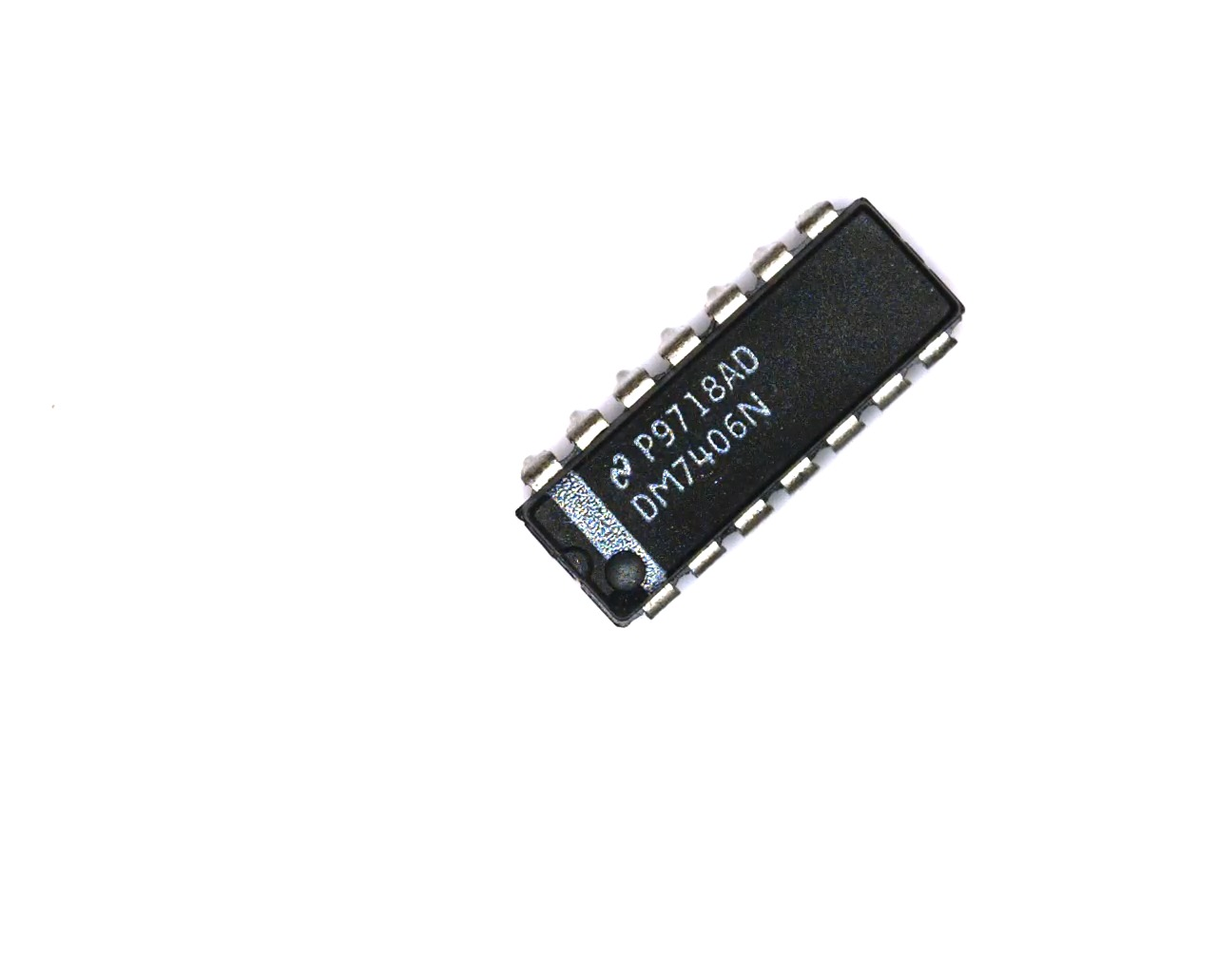IC: (476, 167, 1002, 660)
notch: (556, 540, 599, 588)
